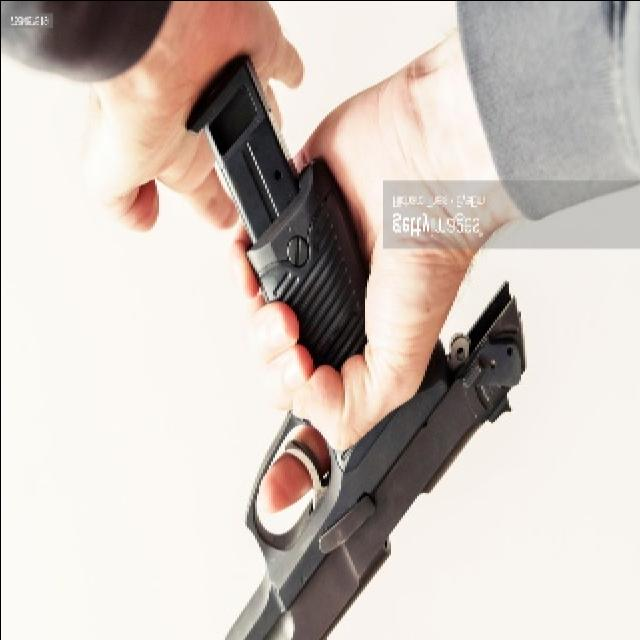handgun: (185, 58, 523, 640)
